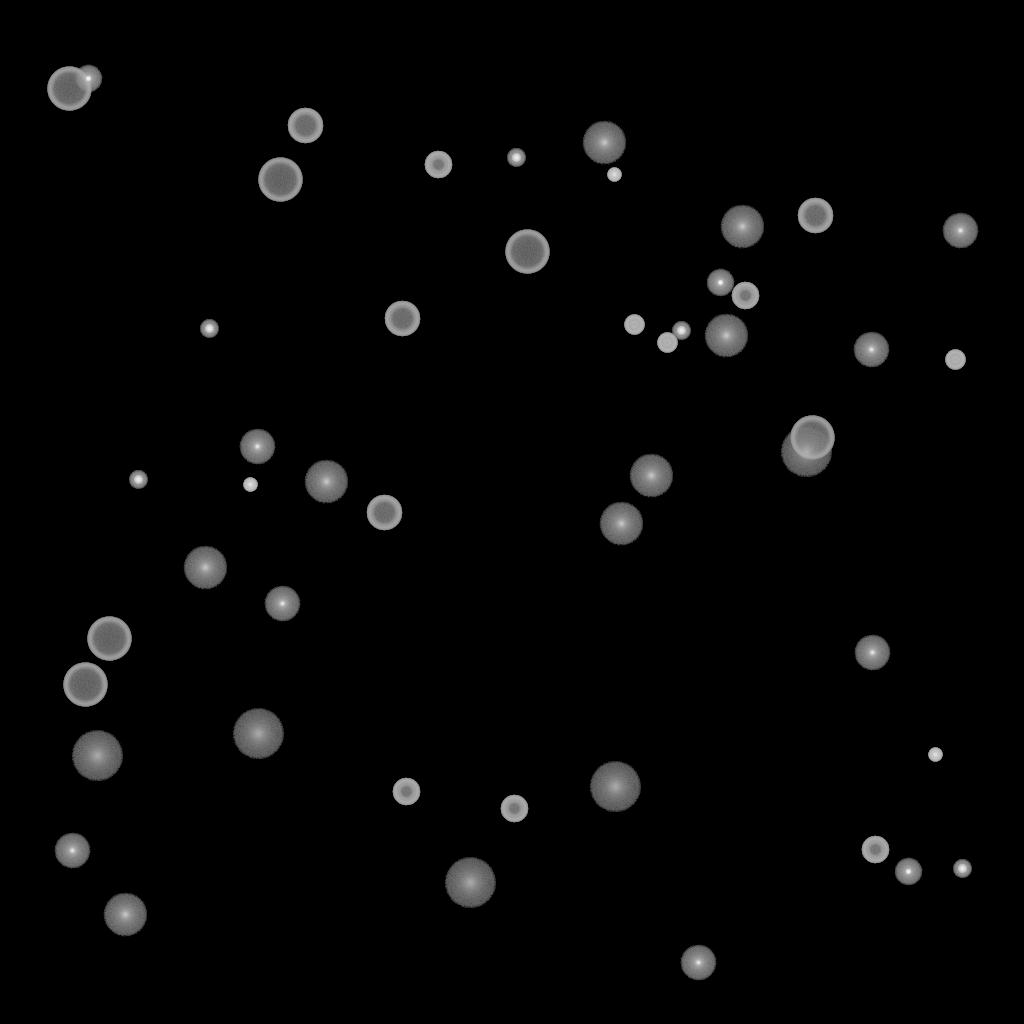depth:-10: (706, 269, 734, 297), (74, 65, 102, 93), (894, 858, 922, 886)
depth:-20: (953, 860, 971, 878), (129, 471, 147, 489), (507, 149, 525, 167), (672, 322, 690, 340), (200, 320, 218, 338)
depth:-30: (928, 748, 942, 762), (607, 168, 621, 182), (243, 478, 257, 492)
depth:-40: (945, 350, 965, 370), (657, 333, 677, 353), (624, 315, 644, 335)
depth:-50: (424, 151, 452, 179), (861, 836, 889, 864), (392, 778, 420, 806), (500, 795, 528, 823), (731, 282, 759, 310)
depth:-60: (797, 198, 833, 234), (366, 495, 402, 531), (287, 108, 323, 144), (384, 301, 420, 337)
depth:-70: (505, 230, 549, 274), (47, 67, 91, 111), (790, 416, 834, 460), (63, 663, 107, 707), (258, 158, 302, 202), (87, 617, 131, 661)
depth:0: (854, 635, 890, 671), (54, 833, 90, 869), (853, 332, 889, 368), (680, 945, 716, 981), (942, 213, 978, 249), (264, 586, 300, 622), (239, 429, 275, 465)
depth:10: (704, 314, 748, 358), (720, 205, 764, 249), (183, 546, 227, 590), (304, 460, 348, 504), (582, 121, 626, 165), (103, 893, 147, 937), (629, 454, 673, 498), (599, 502, 643, 546)
depth:20: (232, 709, 284, 759), (71, 731, 123, 781), (780, 427, 832, 477), (444, 858, 496, 908), (589, 762, 641, 812)
